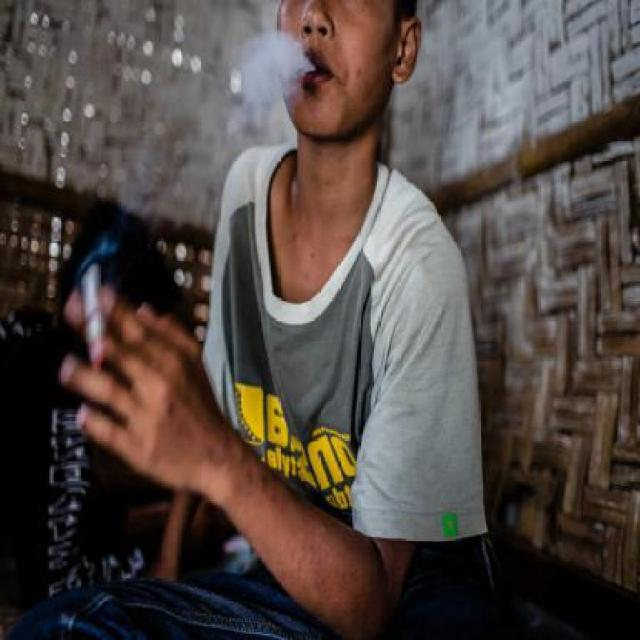cigarette: (64, 261, 138, 394)
